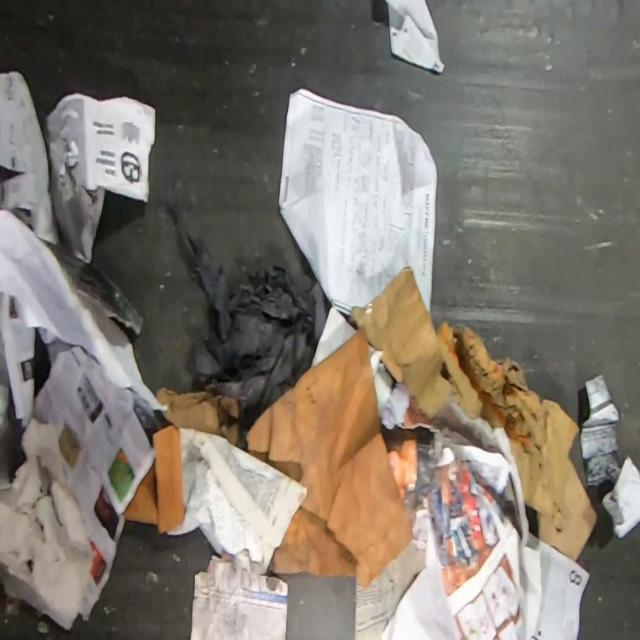cardboard: (350, 263, 597, 561), (246, 327, 414, 585), (123, 425, 184, 535), (156, 387, 241, 444)
soft_plastic: (170, 197, 331, 451)
